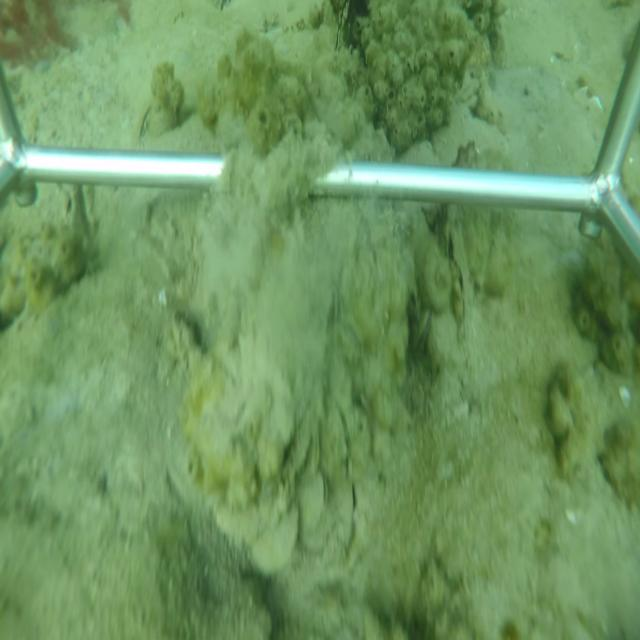Oyster-Closed: (444, 212, 478, 371), (331, 2, 353, 65)
